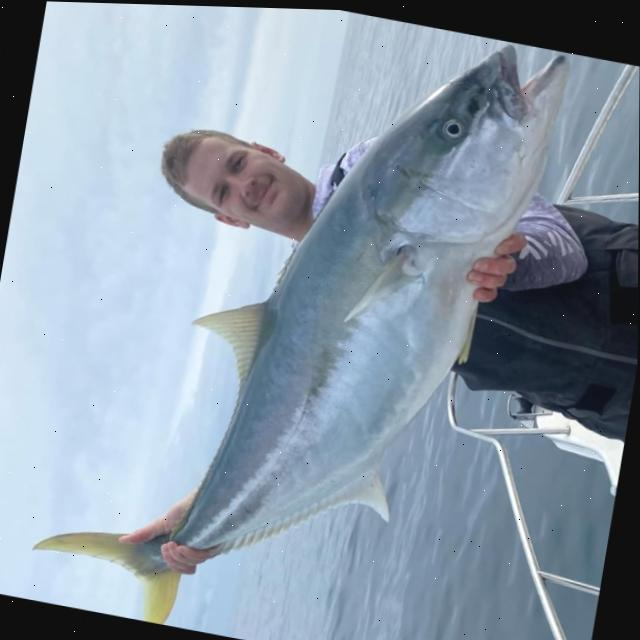Kingfish: (20, 1, 576, 640)
